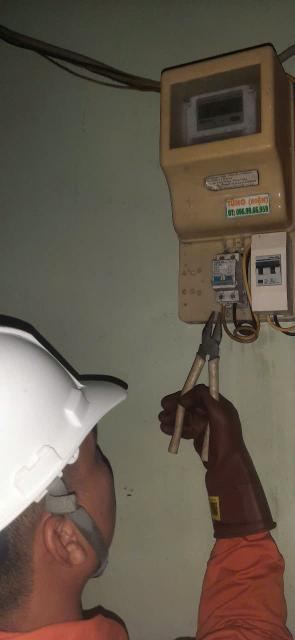gloves: (153, 372, 292, 561)
helmet: (0, 312, 122, 554)
